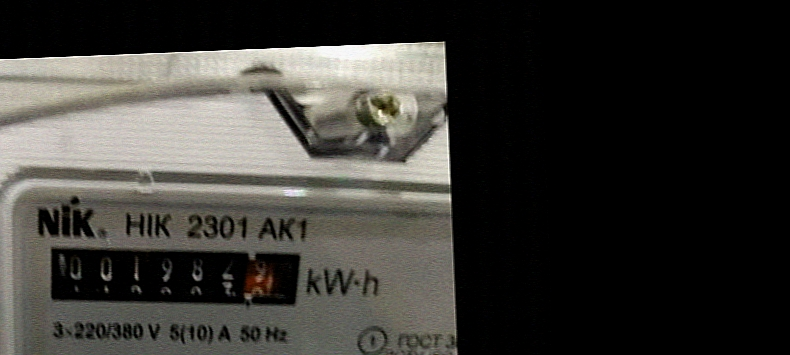0: (97, 252, 115, 282), (67, 250, 84, 280)
1: (129, 251, 142, 281)
2: (219, 250, 238, 280)
8: (189, 252, 206, 281)
9: (250, 255, 271, 284), (158, 253, 174, 282)
screen: (32, 221, 316, 328)
